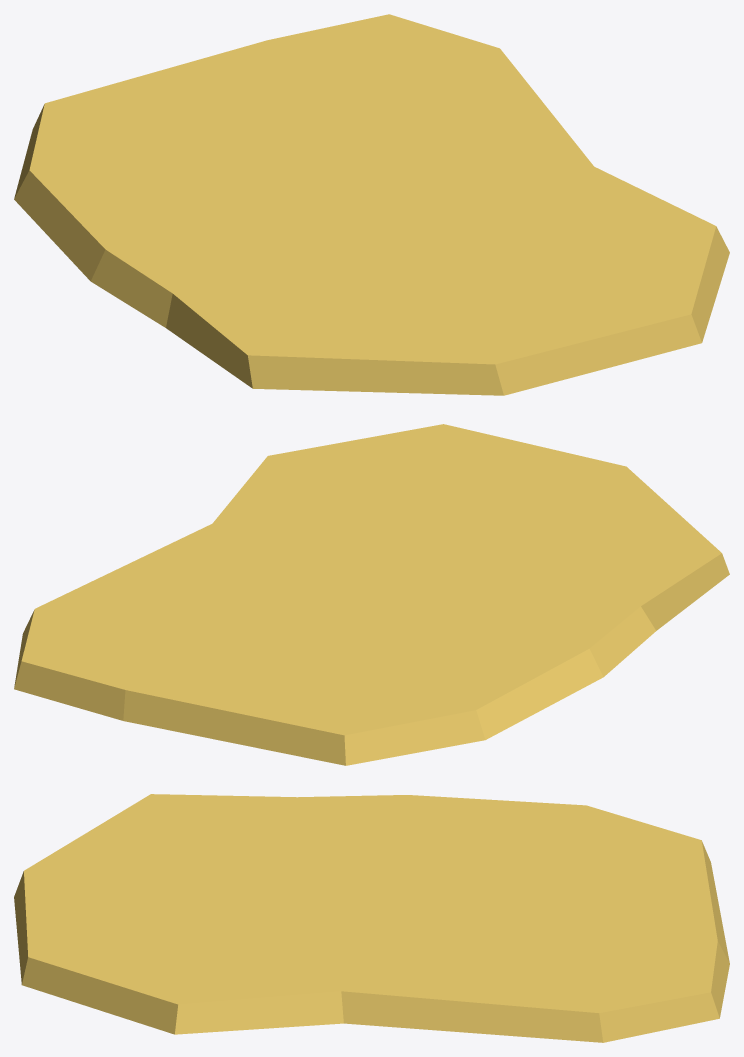
Rendered from Sand_02.fbx.
3 renders of one model, top to bottom at view 1: azimuth 30°, elevation 25°; view 2: azimuth 150°, elevation 25°; view 3: azimuth 270°, elevation 25°, orthographic. The views are drawn at different scales.
Visible parts, largest first — view 1: Sand_02; view 2: Sand_02; view 3: Sand_02.
Part boxes in pixels (x1,y1,x2,y2): Sand_02: (14,14,729,395); Sand_02: (14,424,729,765); Sand_02: (14,794,729,1042).
Size of the model in its own units: 19.72 by 1 by 25.98.
